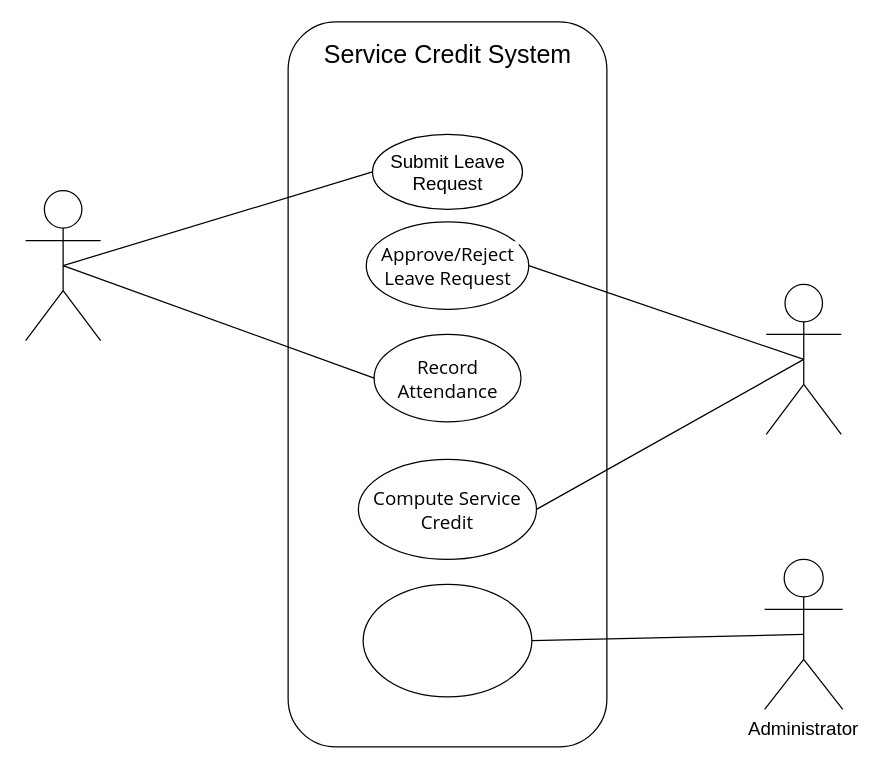
Some shapes in this 880 by 769 pixel diagram are drawn without their labels. Each missing label, with the centre of its shape:
"Employee" belongs at (62,265).
"Generate Reports" belongs at (447,640).
"Hr Staff" belongs at (803,358).
